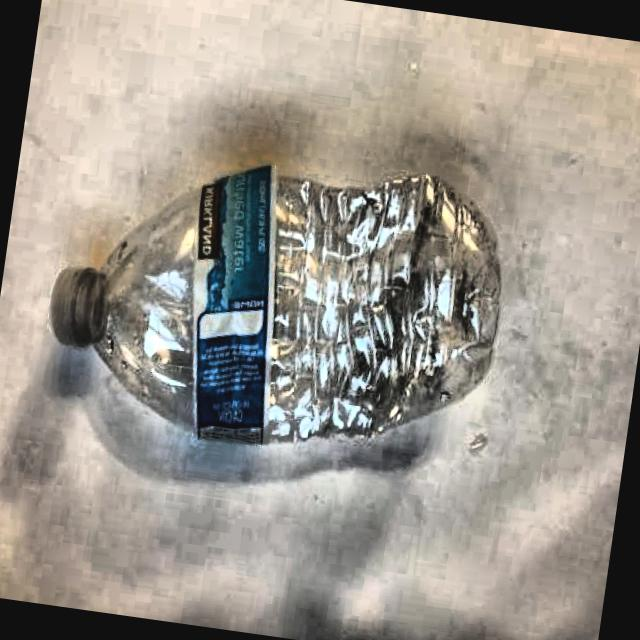plastic bottle: (50, 165, 502, 445)
